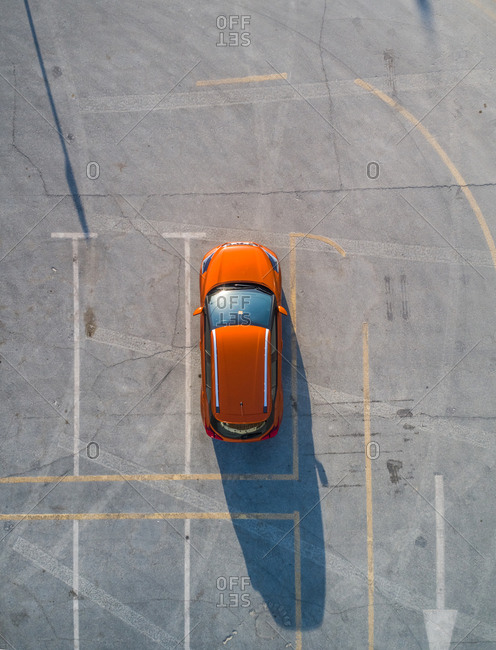Car: (193, 241, 288, 448)
LaneMark: (182, 238, 193, 477), (73, 235, 80, 475), (435, 473, 446, 610), (48, 225, 105, 251), (70, 517, 81, 650), (161, 226, 213, 251), (182, 515, 191, 650)
